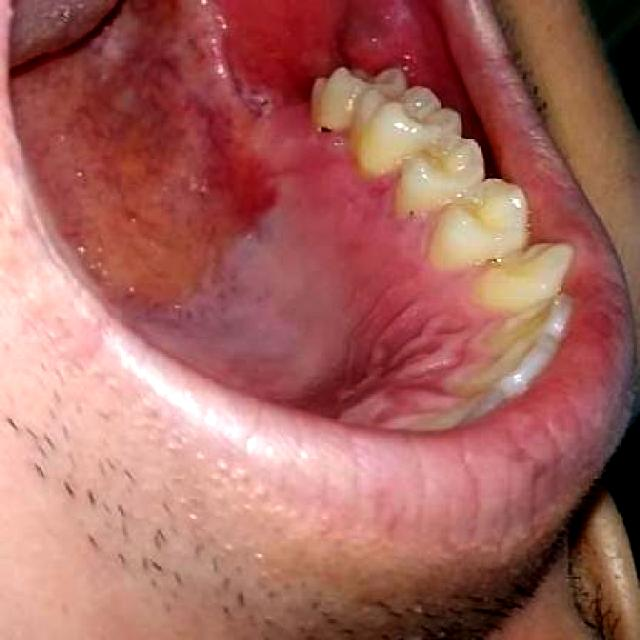Plaque: (310, 121, 343, 145)
